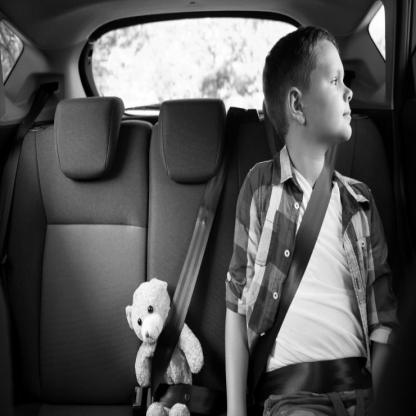seatbelt: (254, 23, 366, 347)
